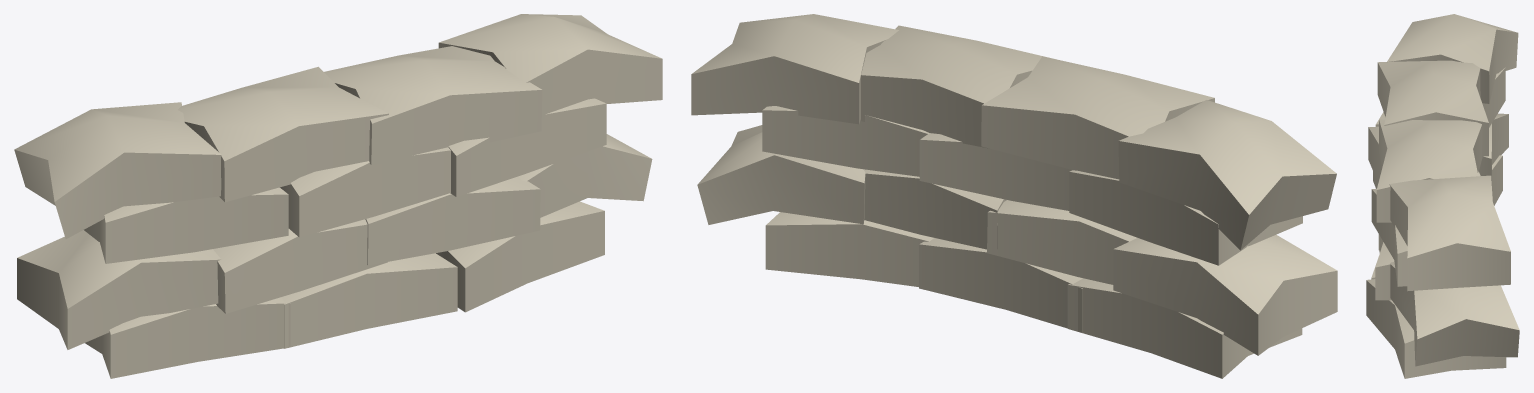
Rendered from SackTrench.fbx.
The picture shows the model from 3 angles, left to right: view 1: azimuth 30°, elevation 25°; view 2: azimuth 150°, elevation 25°; view 3: azimuth 270°, elevation 25°; orthographic projection. The views are drawn at different scales.
Visible parts, largest first — view 1: SackTrench.001; view 2: SackTrench.001; view 3: SackTrench.001.
Boxes of the visible parts, x1,y1,x2,y2 form: SackTrench.001: (14, 14, 662, 378); SackTrench.001: (691, 14, 1337, 378); SackTrench.001: (1366, 14, 1519, 378).
Size of the model in its own units: 3.35 by 1.28 by 0.9246.
